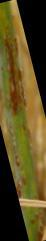Corn: (1, 34, 33, 138)
